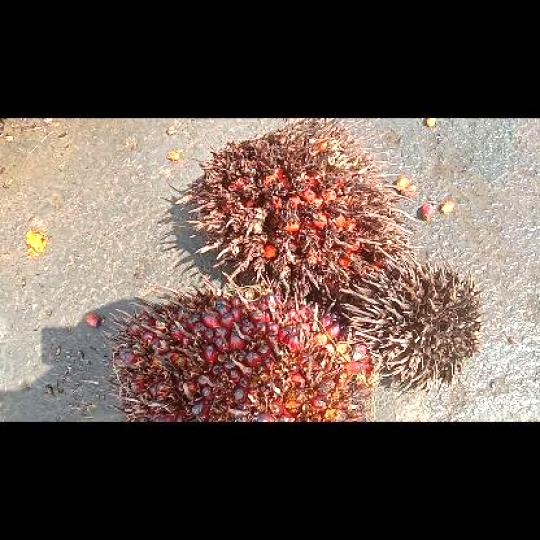masak: (105, 272, 378, 421)
terlalu masak: (176, 118, 416, 303)
